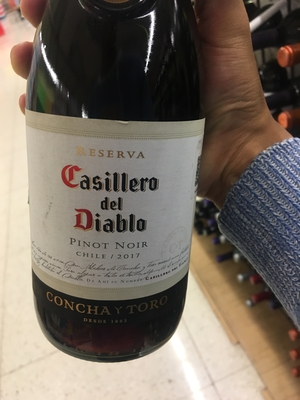casillero del diablo pinot noir: (24, 8, 229, 379)
